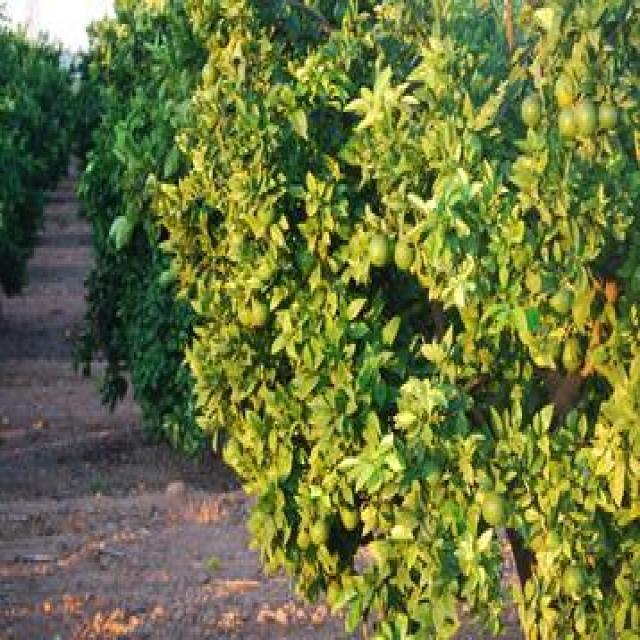Jeruk Belum Matang: (577, 101, 599, 136), (560, 106, 580, 142), (520, 96, 542, 128), (368, 234, 390, 266), (597, 101, 620, 131), (483, 496, 506, 526), (563, 568, 586, 595), (252, 301, 272, 331), (224, 440, 244, 467), (395, 243, 415, 269), (311, 520, 331, 544), (563, 349, 581, 374), (258, 206, 278, 227), (202, 64, 216, 83)
